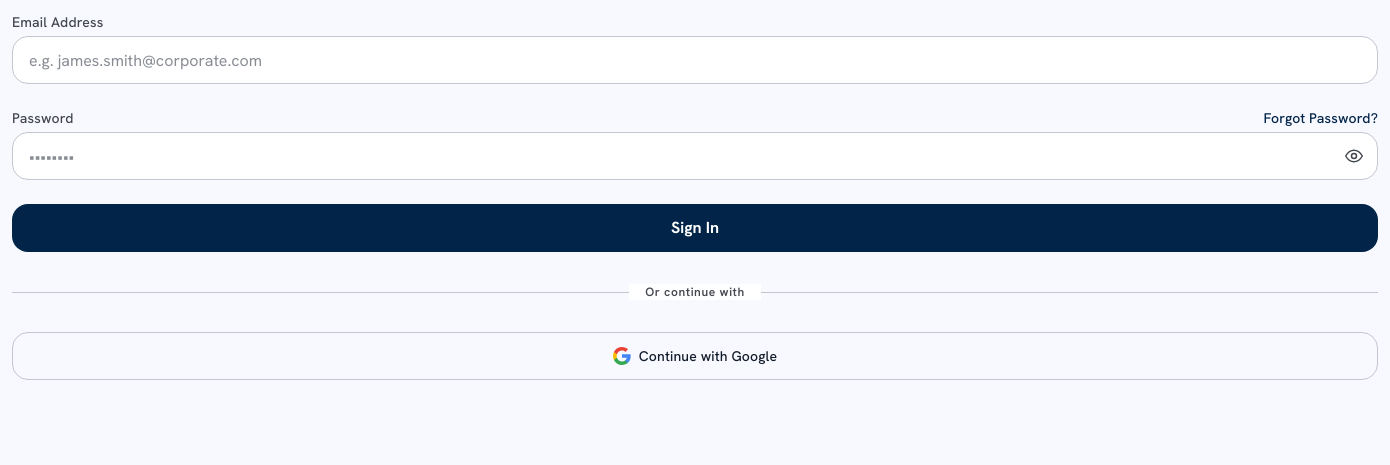
Test: LoginForm › shows a generic invalid-credentials message and does not redirect on failed password sign-in
Type "ann@example.com" into the field labelled "Email Address". click: coordinates (695, 60)
box: top-left (12, 36), bottom-right (1378, 84)
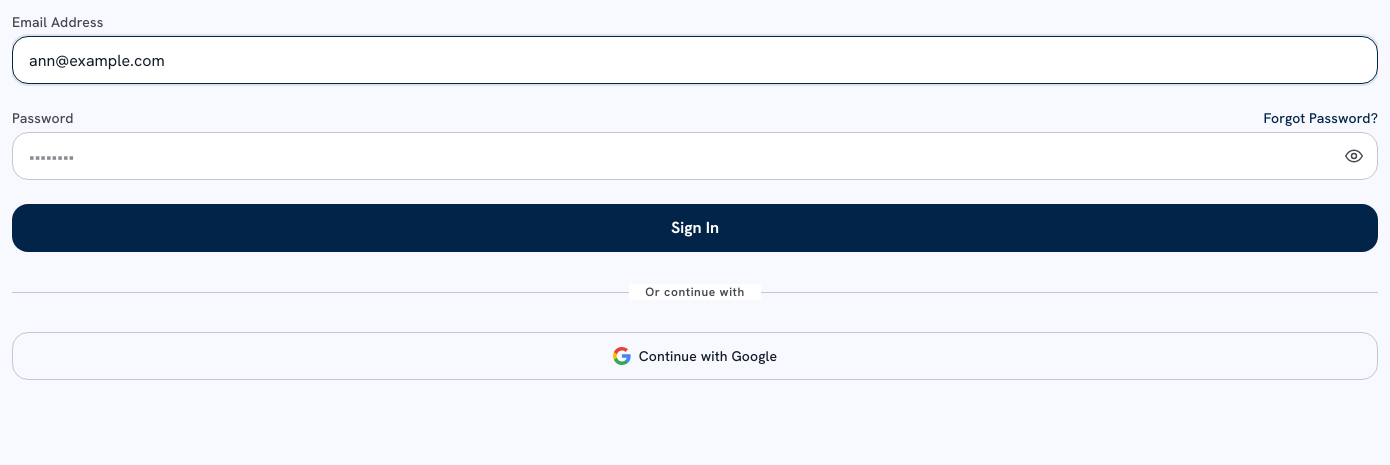
Type "wrong-password" into the password field labelled "Password". click: coordinates (695, 156)
box: top-left (12, 132), bottom-right (1378, 180)
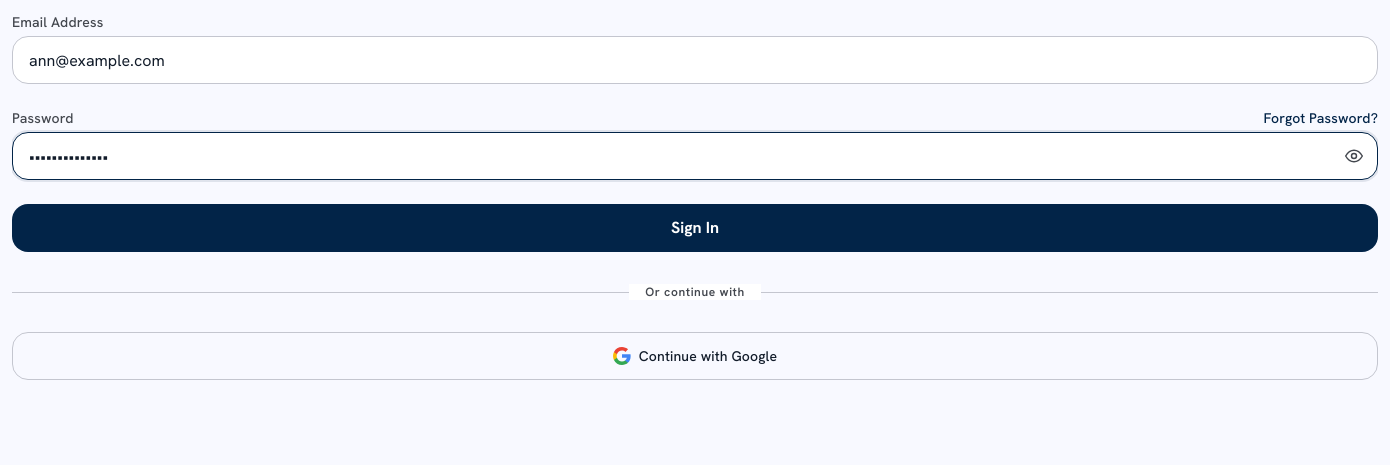
Click the button "Sign In". click: coordinates (695, 228)
box: top-left (12, 204), bottom-right (1378, 252)
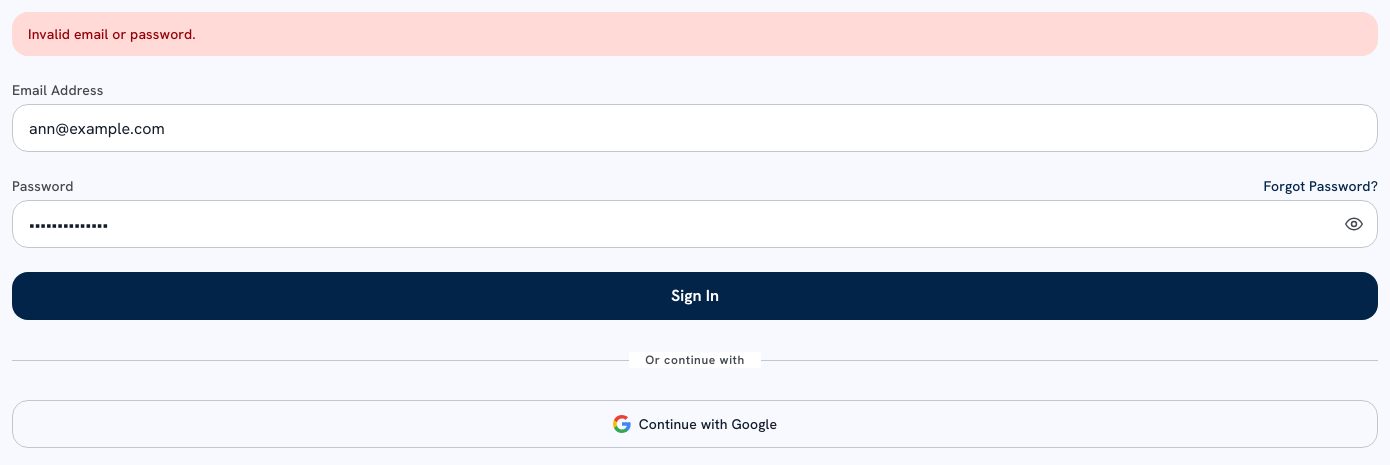
expect the text "Invalid email or password." is shown: met, box top-left (12, 12), bottom-right (1378, 56)
